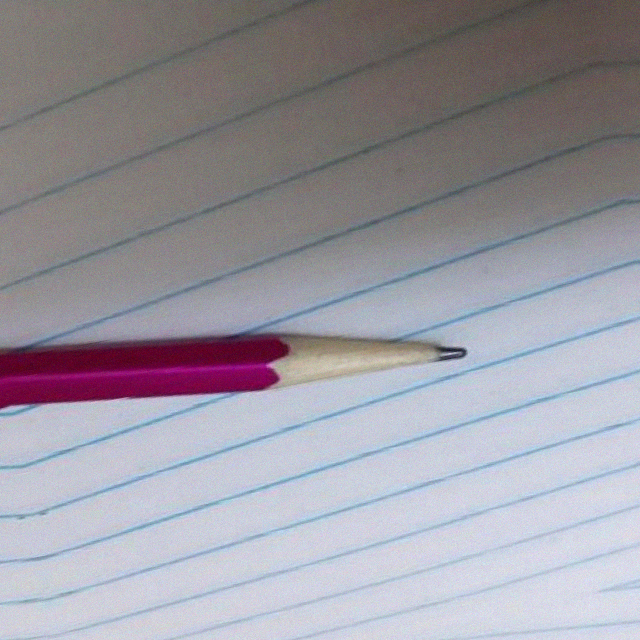pencil: (246, 310, 469, 410)
